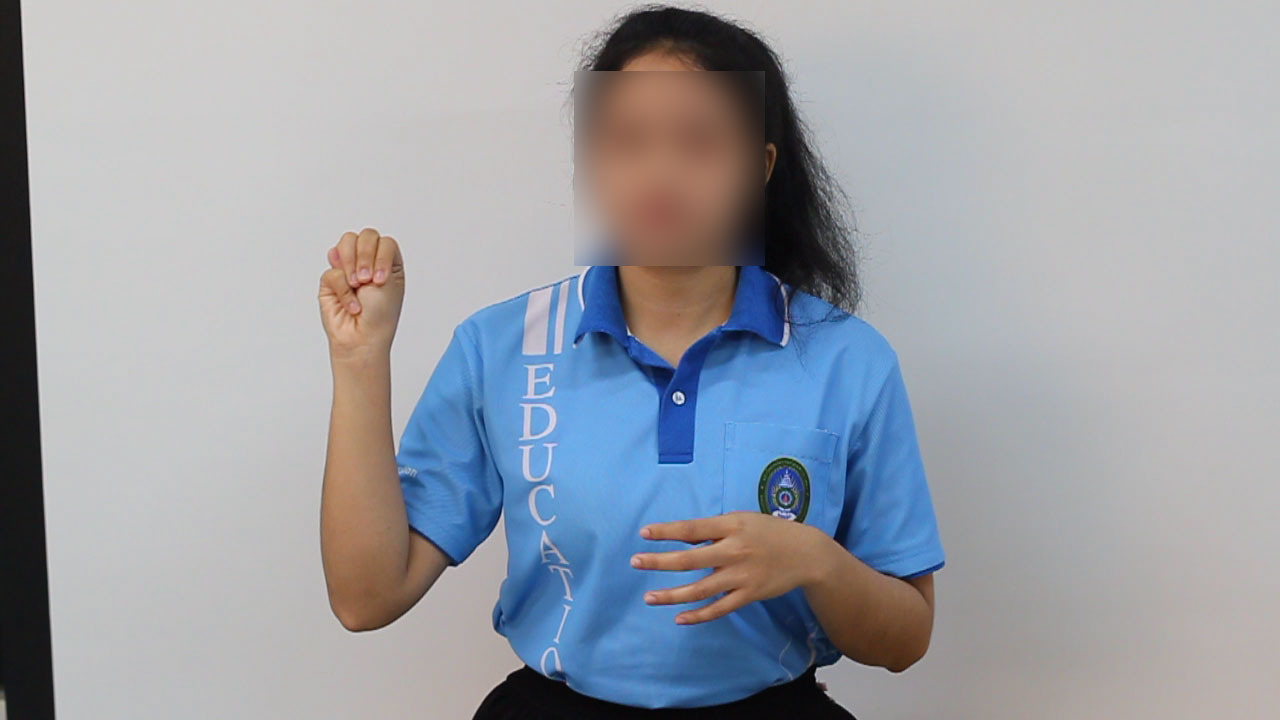mor: (313, 204, 412, 368)
